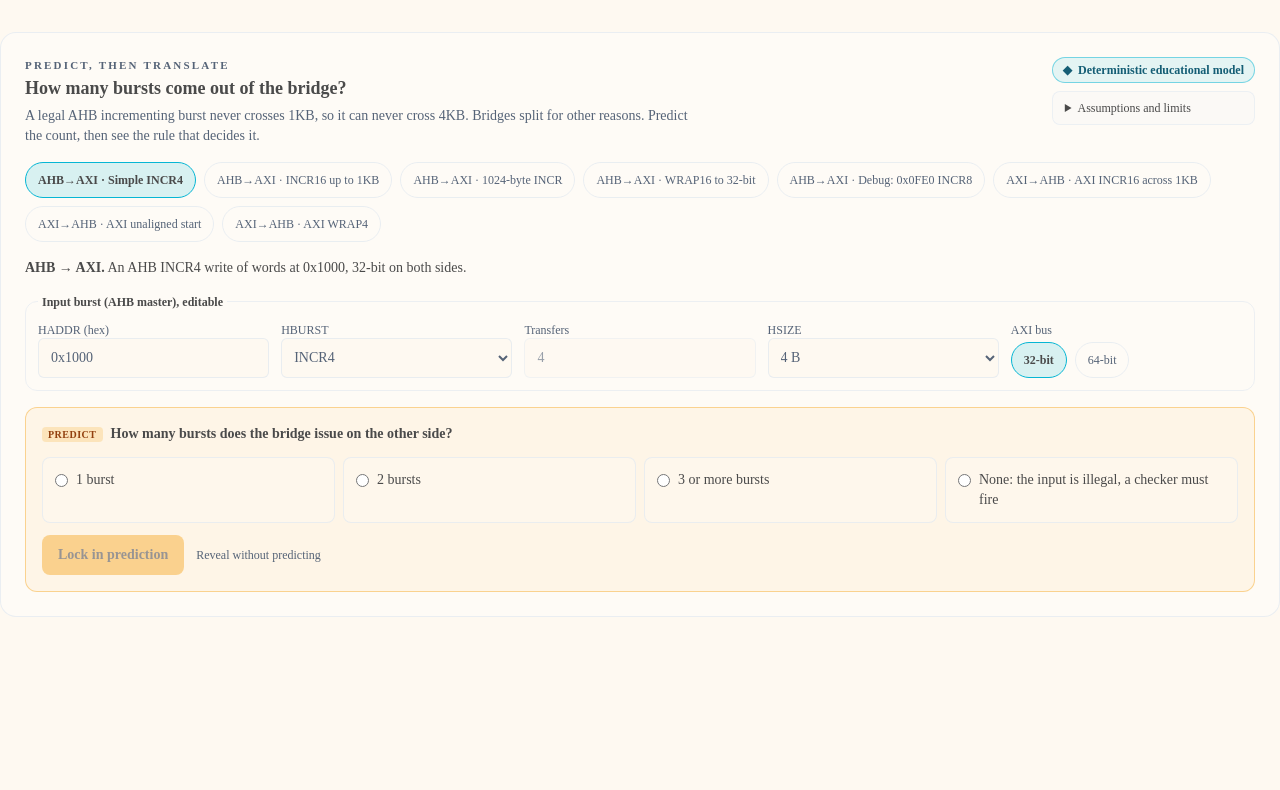
Test case: BridgeTranslationExplorer › hides the output bursts until the learner predicts the count
The width and height of the screenshot is (1280, 790).
Click the radio button labelled "1 burst" at (62, 480), box [55,474,68,486]
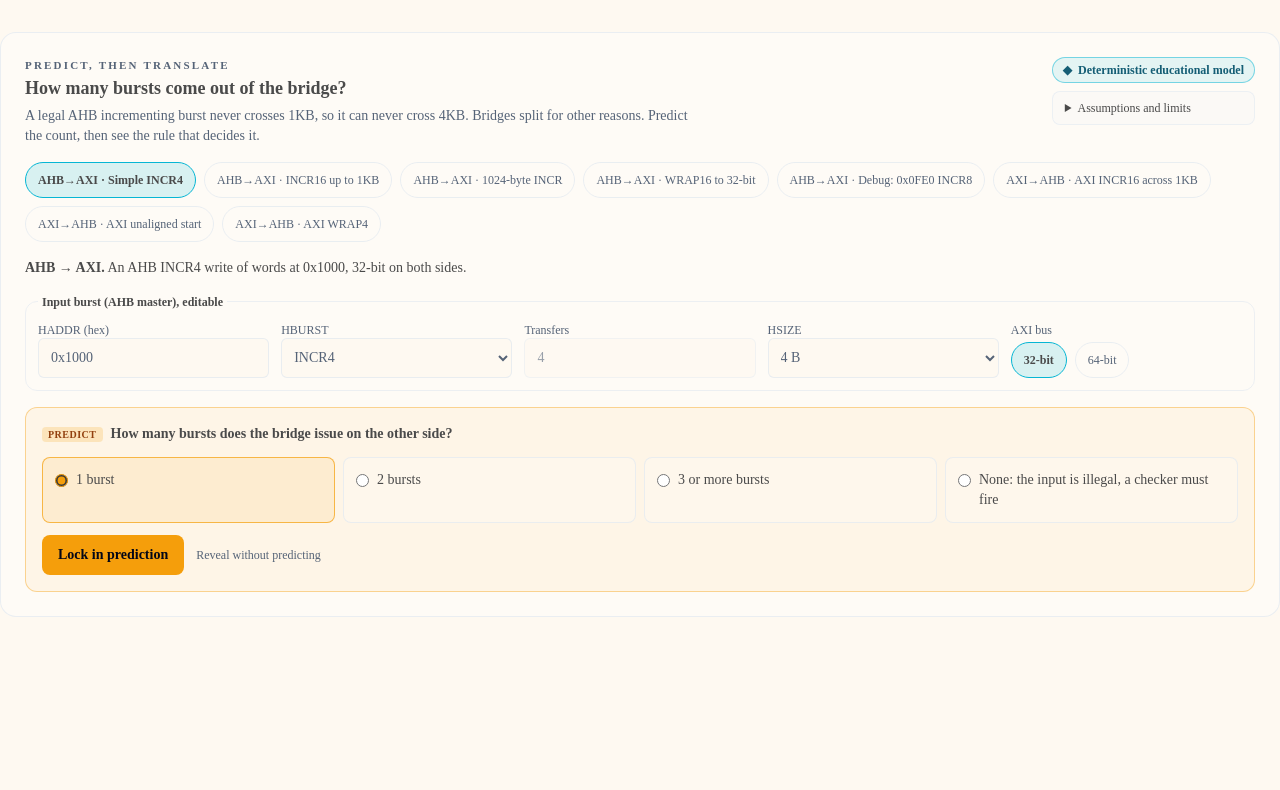
Click the button "Lock in prediction" at (113, 554), box [42,534,184,574]
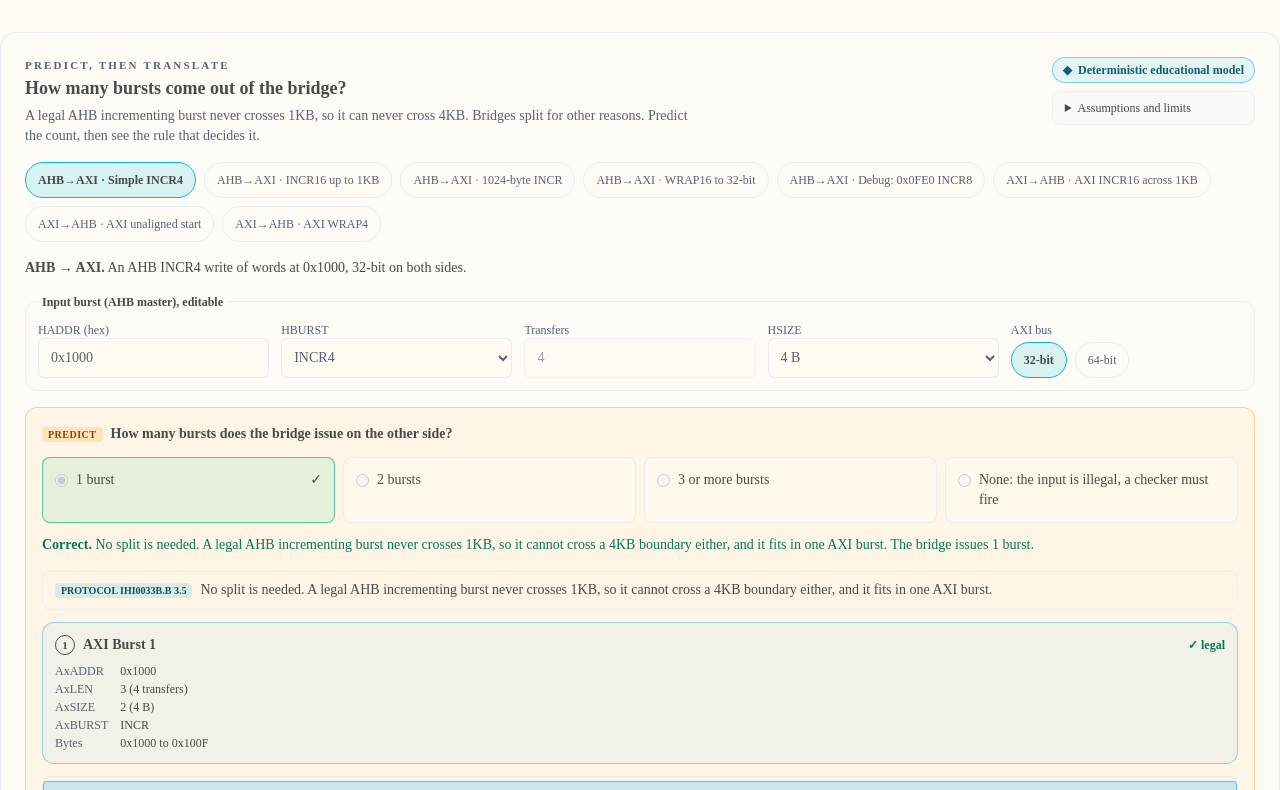
Expected: the text "Correct." is shown, [42,536,95,552]
Expected: the element with test id "axi-bursts-container" shows "AXI Burst 1", [83,636,156,652]
